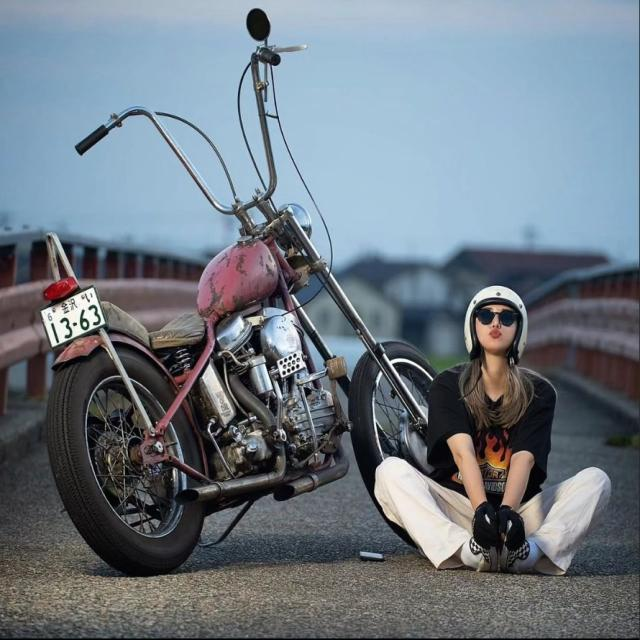illegal_helmet: (455, 282, 531, 404)
